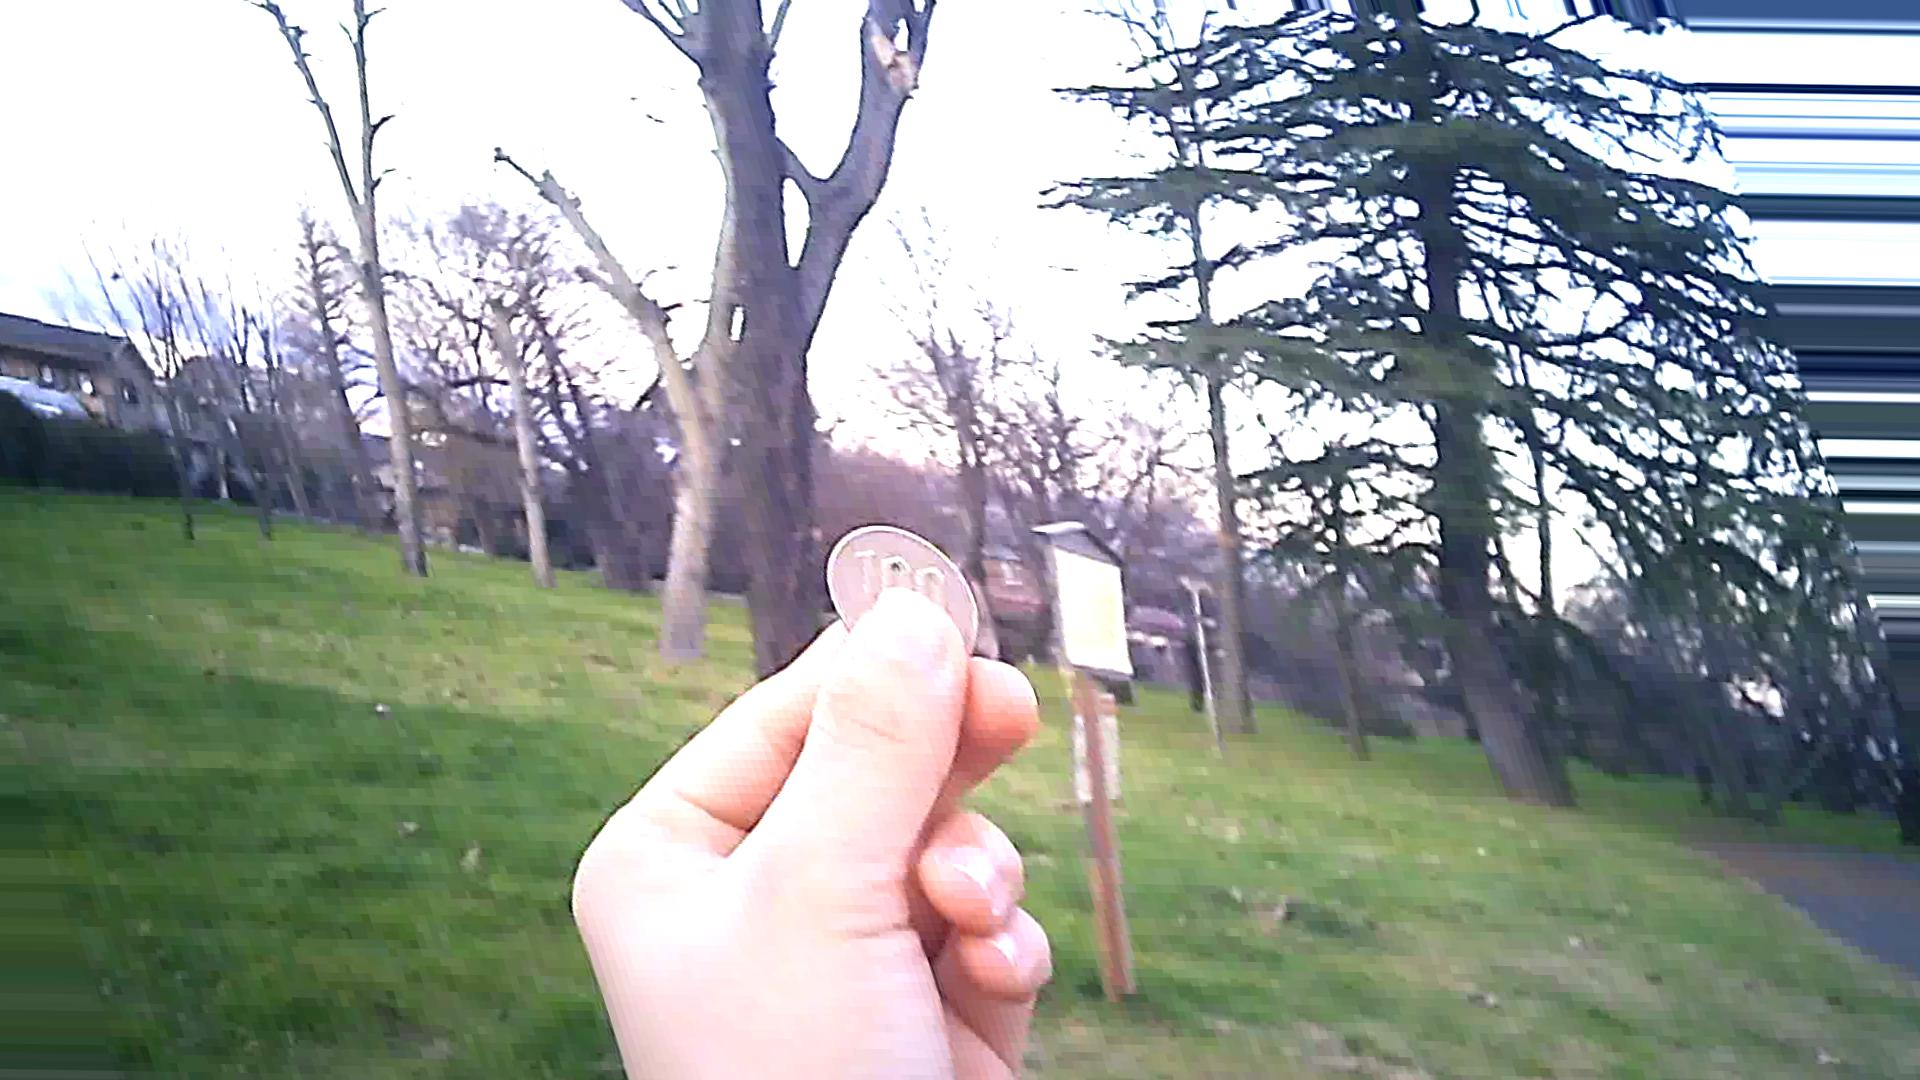100 Yen: (820, 509, 978, 649)
